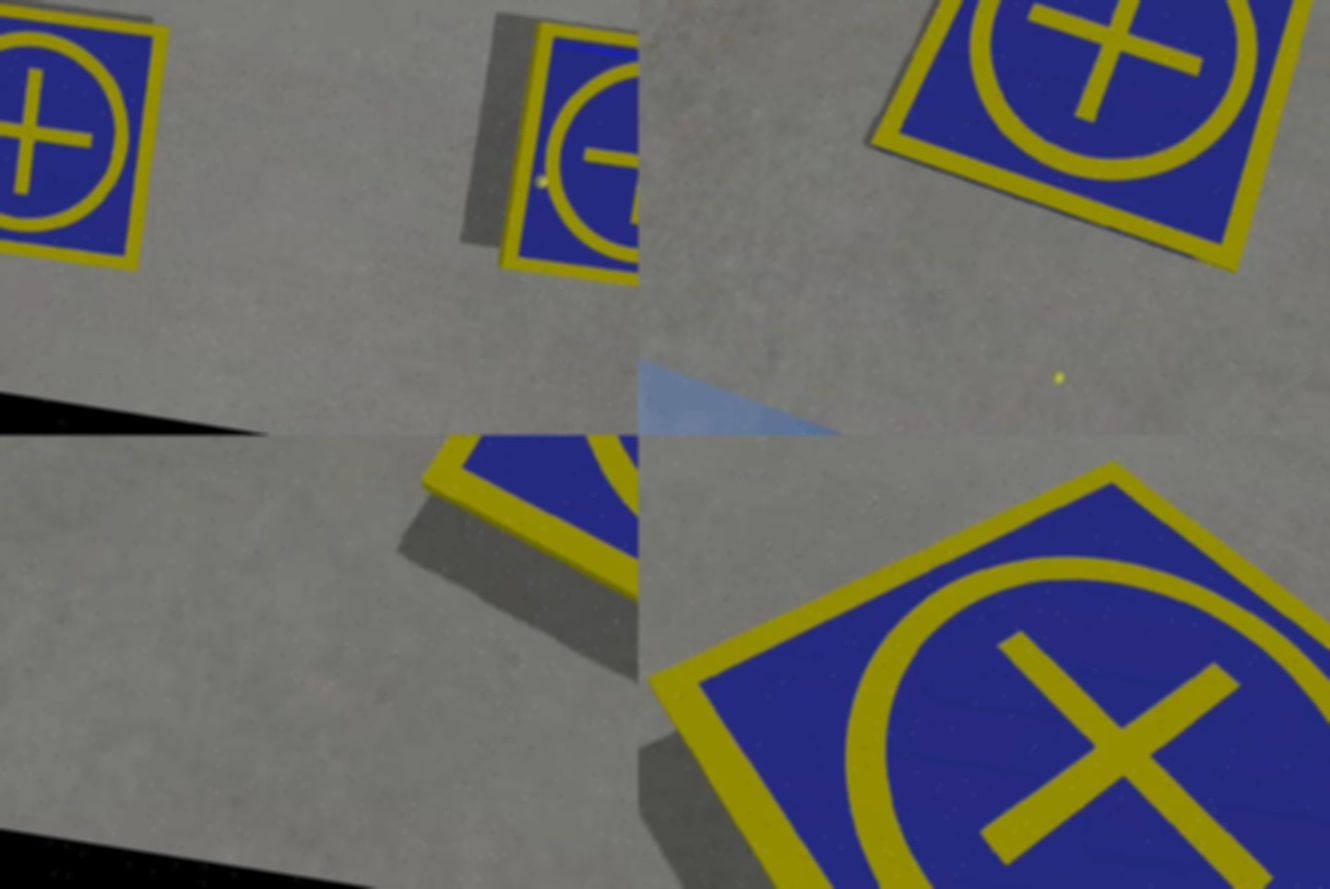small_base: (639, 435, 1330, 889), (857, 1, 1330, 284), (386, 435, 639, 786), (1, 1, 176, 279), (498, 17, 639, 308)
